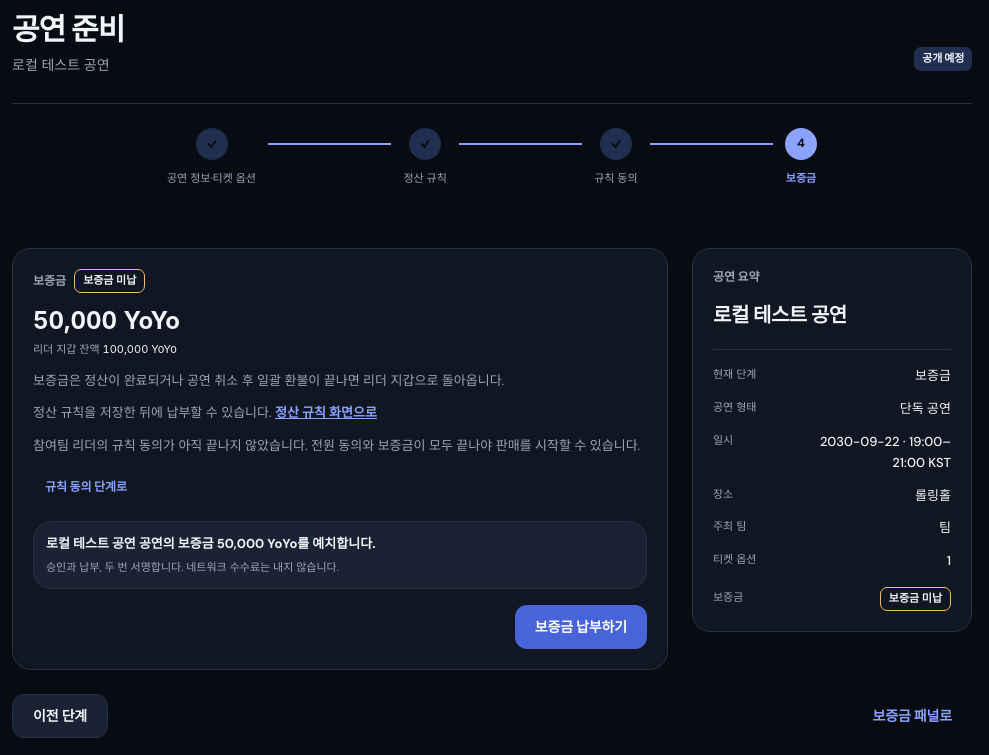
Test case: 보증금 완료 뒤 다음 행동 › 방금 납부가 확정돼도(done) 같은 링크로 가고, 전원 동의 전이면 한 줄을 함께 보여준다
The image size is (989, 755).
Click the button "보증금 납부하기". click: point(581, 627)
box: left=515, top=605, right=647, bottom=649
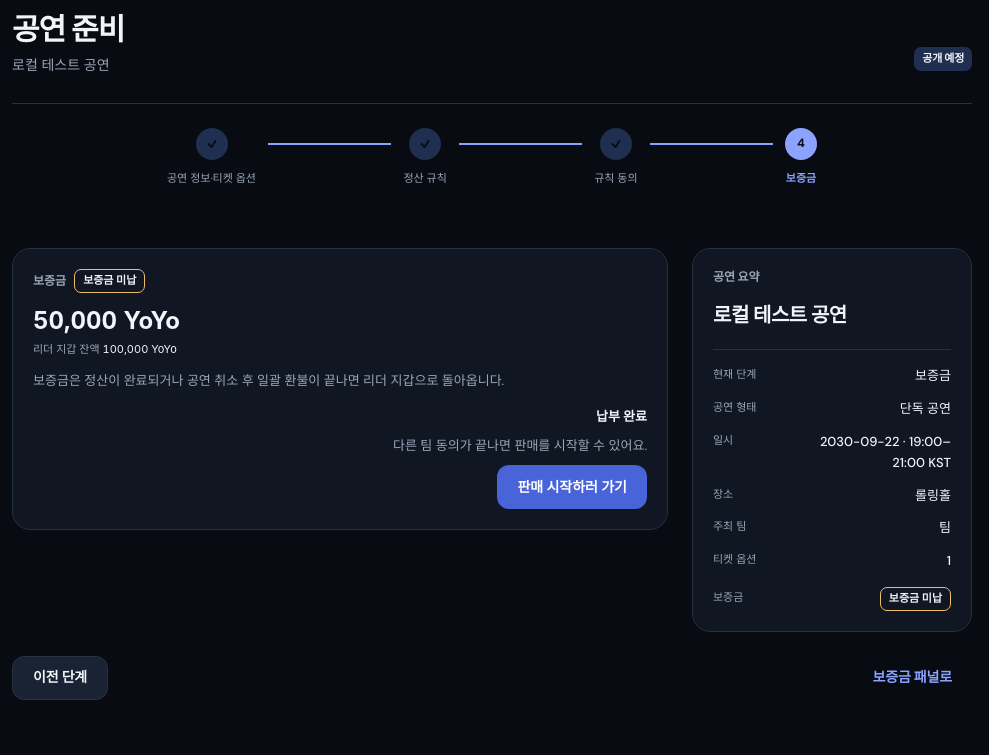
Expected: the link "판매 시작하러 가기" is shown, left=497, top=465, right=647, bottom=509
Expected: the text "다른 팀 동의가 끝나면 판매를 시작할 수 있어요." is shown, left=393, top=437, right=647, bottom=454
